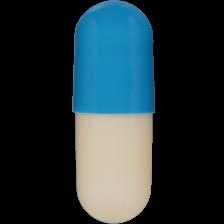62037-697: (0, 0, 224, 224)
